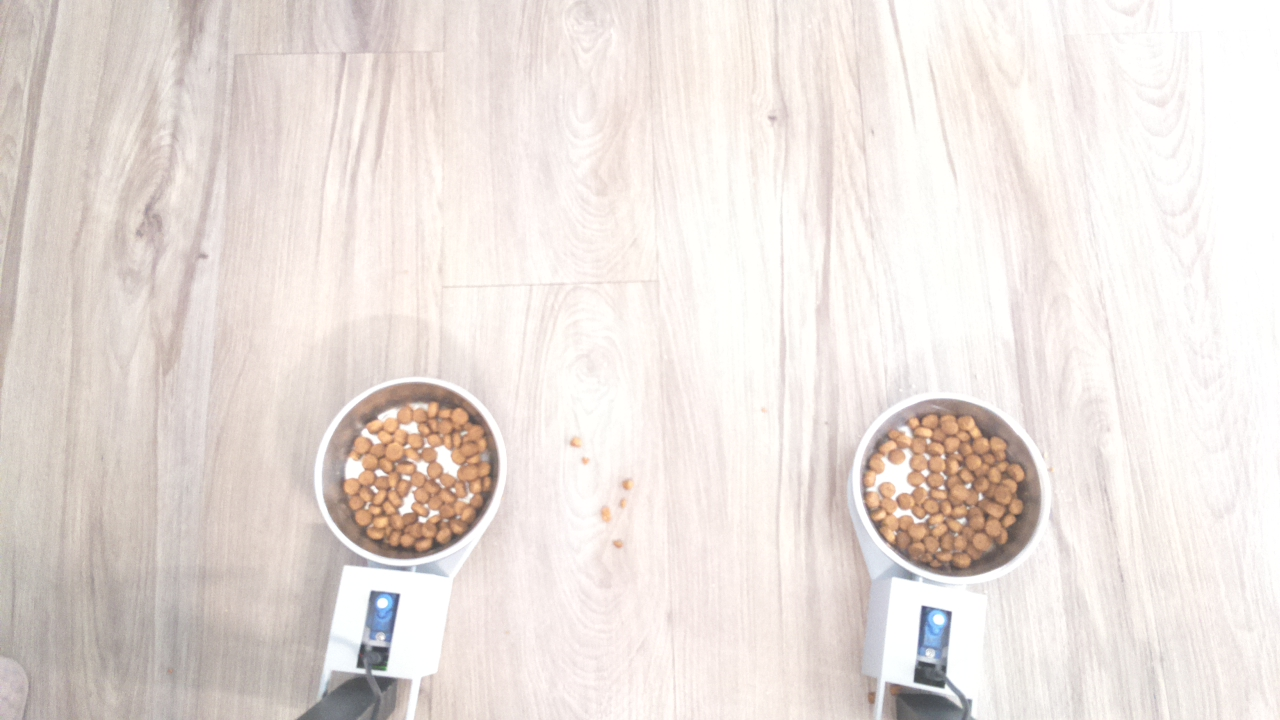open_bowl: (849, 389, 1051, 586), (312, 372, 509, 571)
